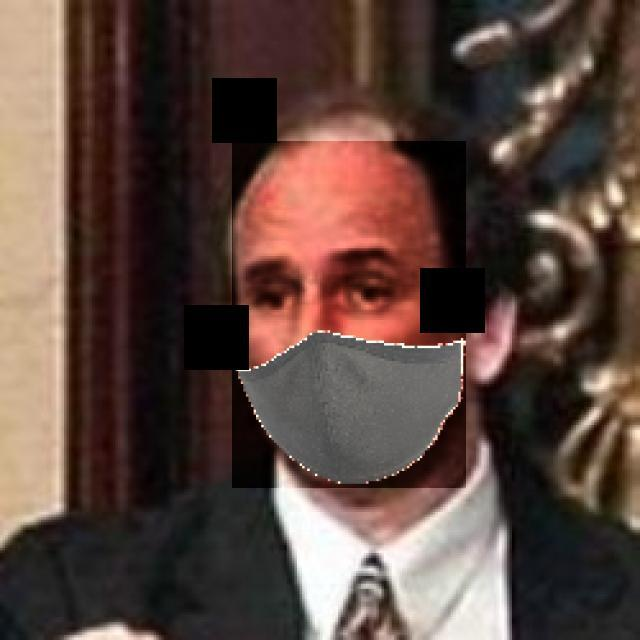cloth: (232, 141, 466, 488)
